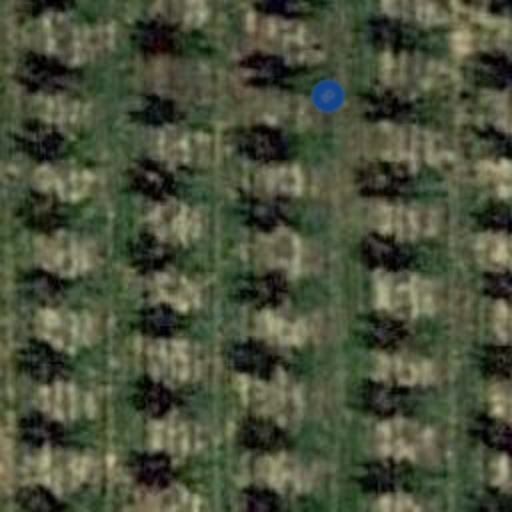circle: (304, 72, 352, 120)
